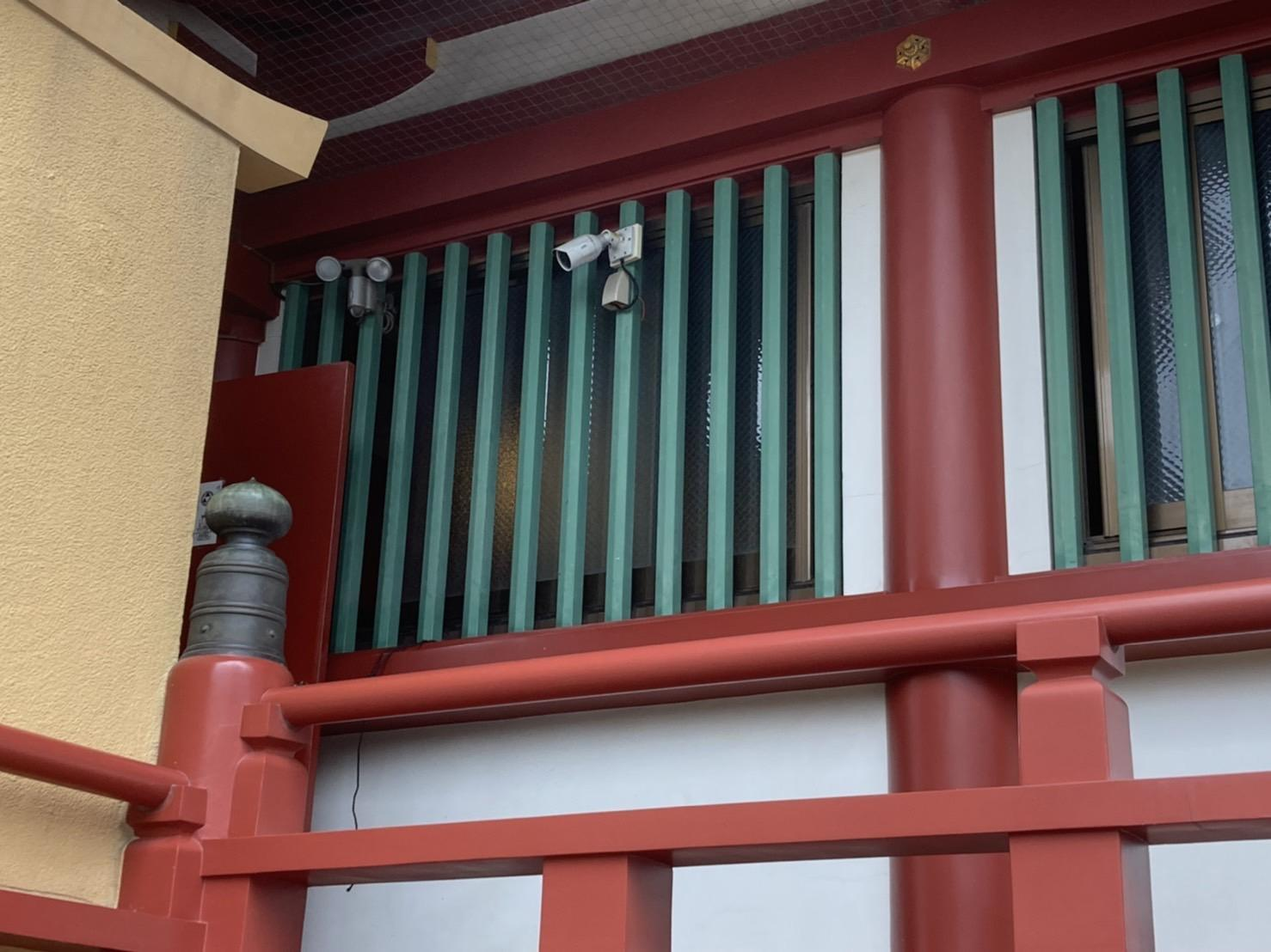tutu: (552, 223, 623, 278)
